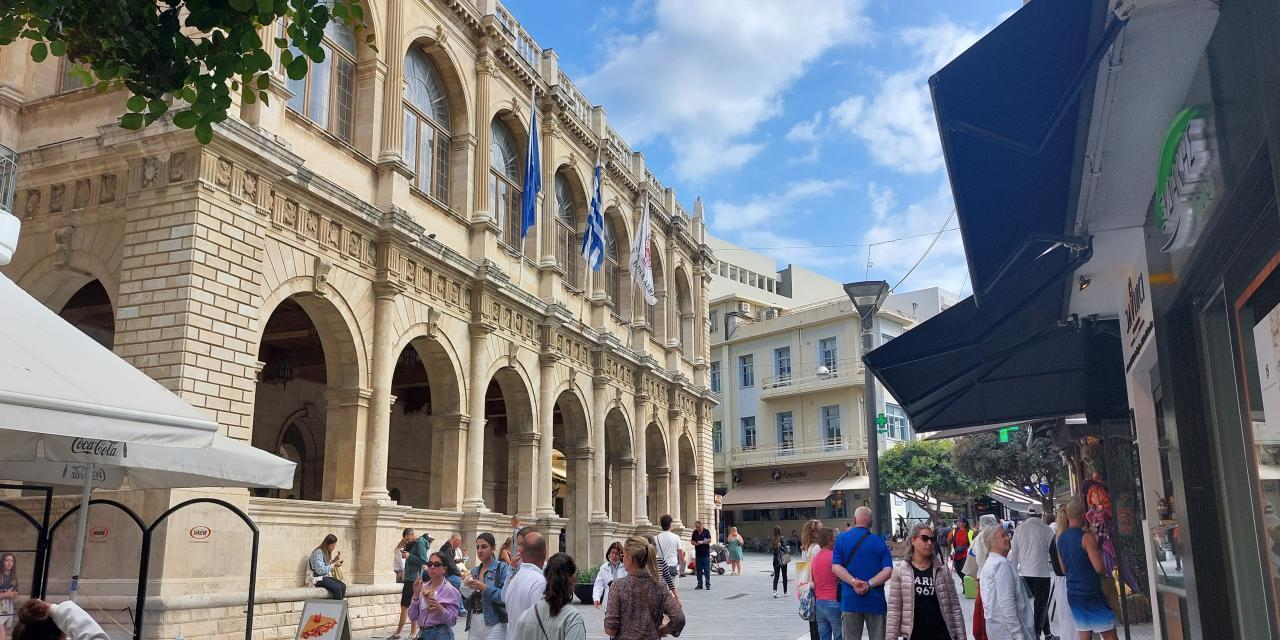Loggia: (1, 1, 727, 640)
